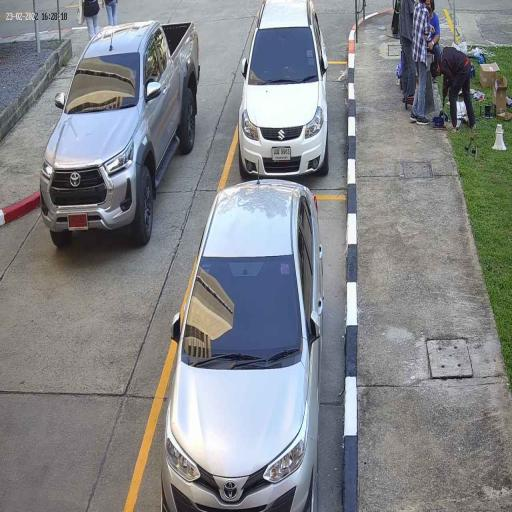car: (160, 176, 326, 512), (39, 18, 202, 249), (236, 0, 332, 180)
